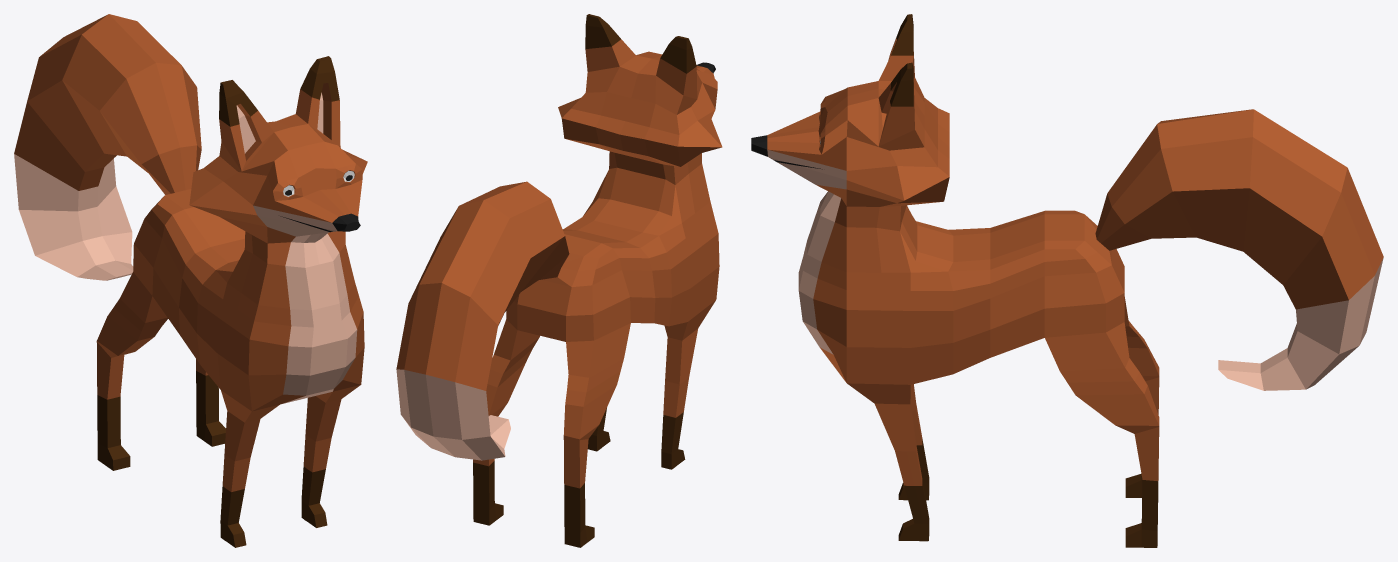
Rendered from fox3.colored.glb.
3 views of the same model, side by side, from view 1: azimuth 30°, elevation 25°; view 2: azimuth 150°, elevation 25°; view 3: azimuth 270°, elevation 25° (orthographic). The views are drawn at different scales.
Visible parts, largest first — view 1: fox; view 2: fox; view 3: fox.
Boxes of the visible parts, left/top/right/bottom form: fox: left=14, top=14, right=367, bottom=547; fox: left=396, top=14, right=722, bottom=547; fox: left=751, top=14, right=1383, bottom=547.
Bounding box in the file's own units: 0.4062 × 1.01 × 1.21.
